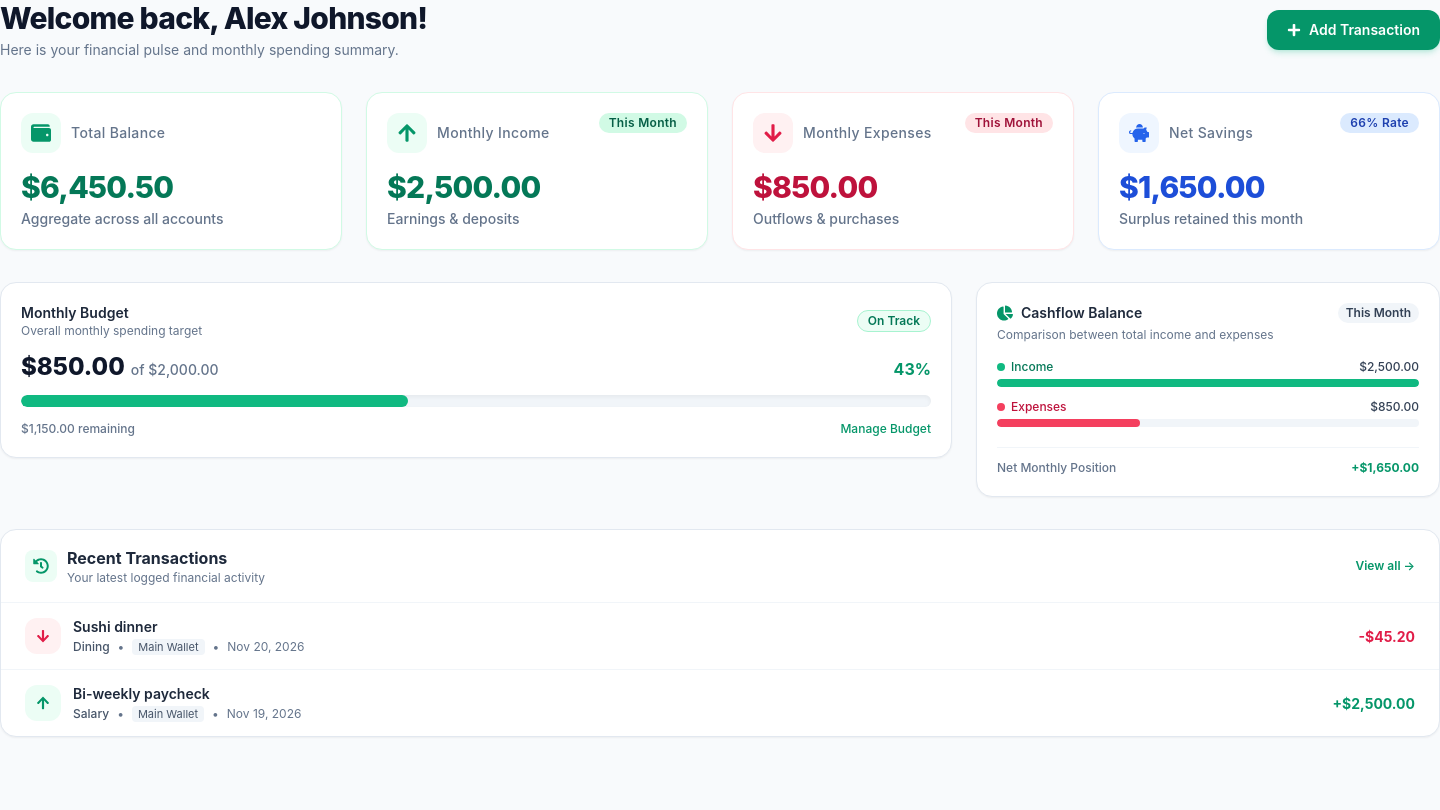
it: DashboardPage Component › opens TransactionModal when Add Transaction button is clicked
Click the button "Add Transaction" at (1354, 30), box [1267, 10, 1439, 50]
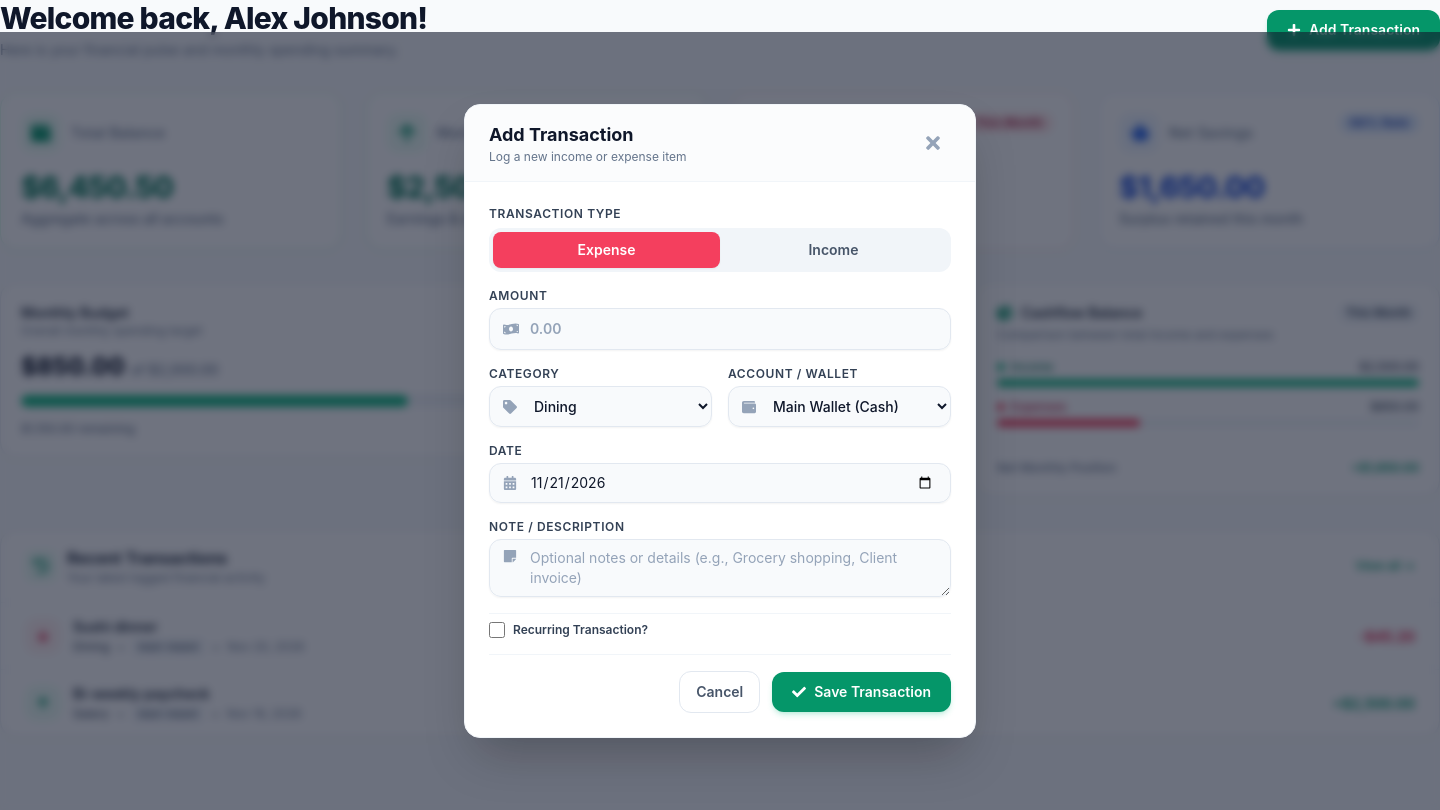
Now the element with test id "transaction-modal" is shown
Close modal
Click the button named "close modal" at (933, 143), box [915, 125, 951, 161]
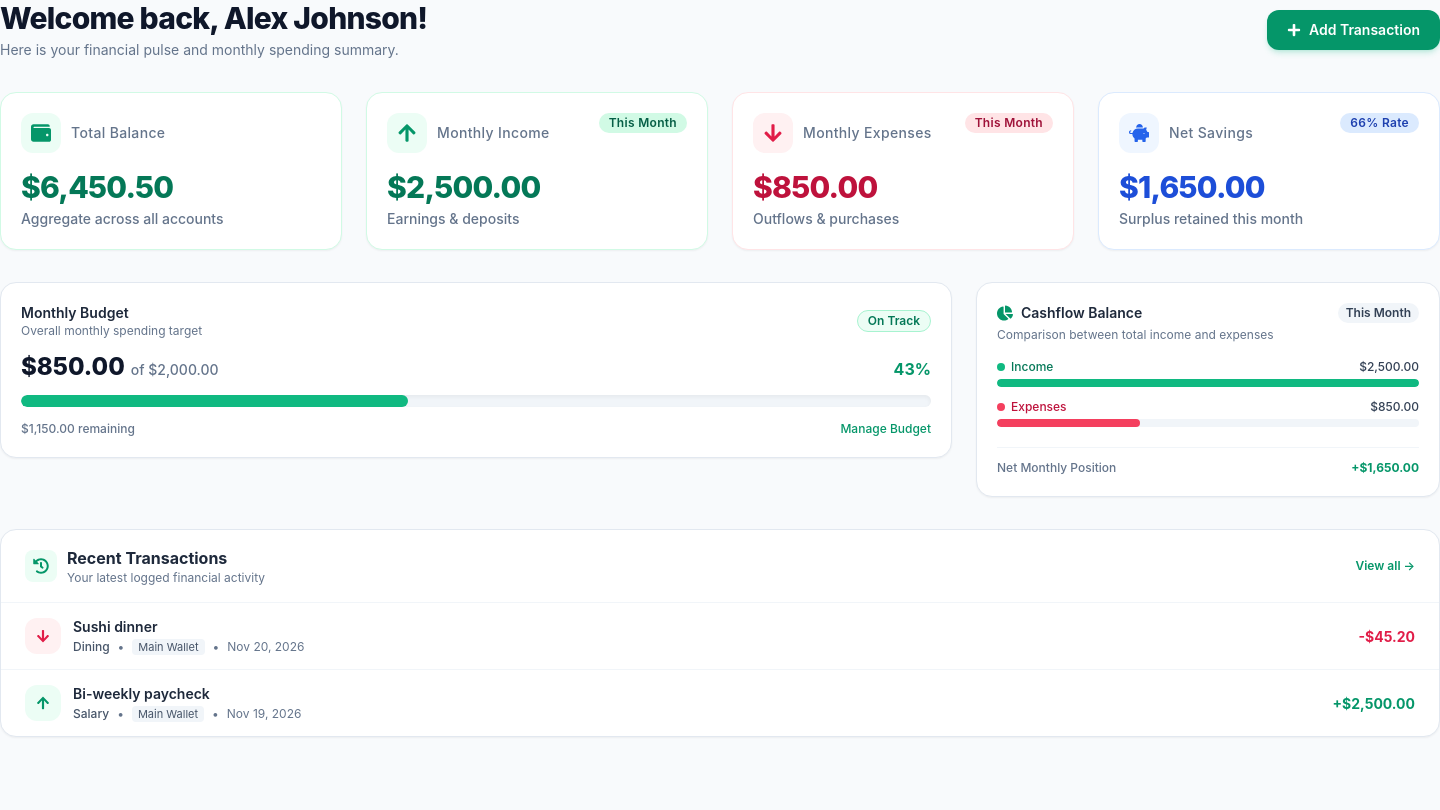
Now the element with test id "transaction-modal" is gone
